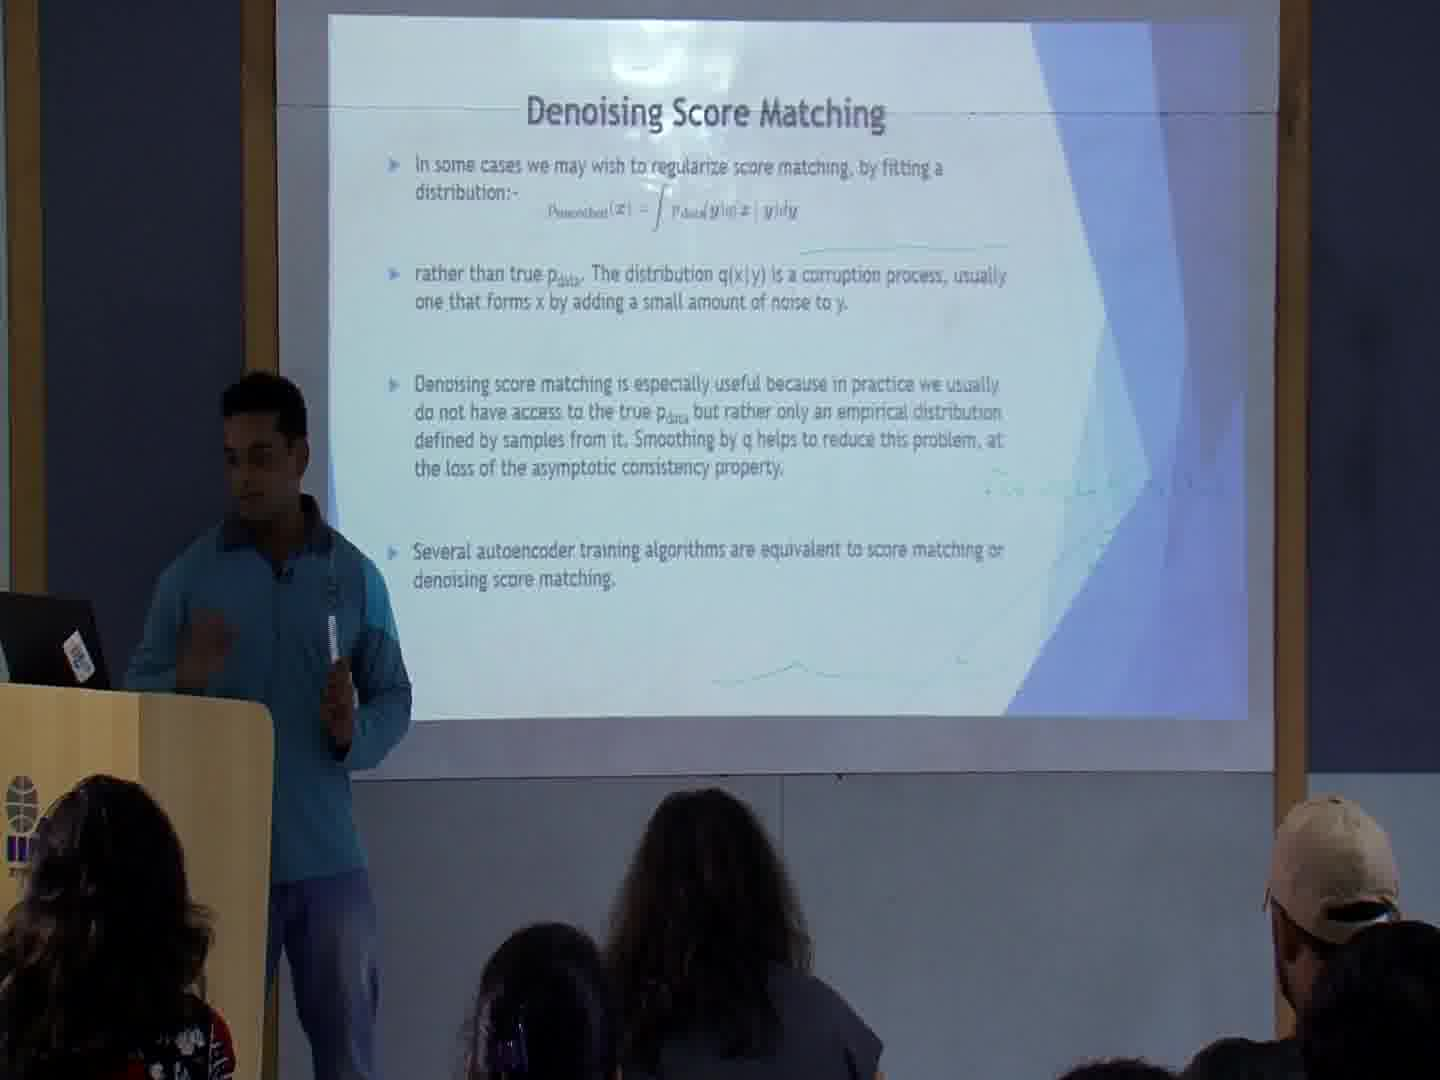slide: (328, 16, 1251, 718)
